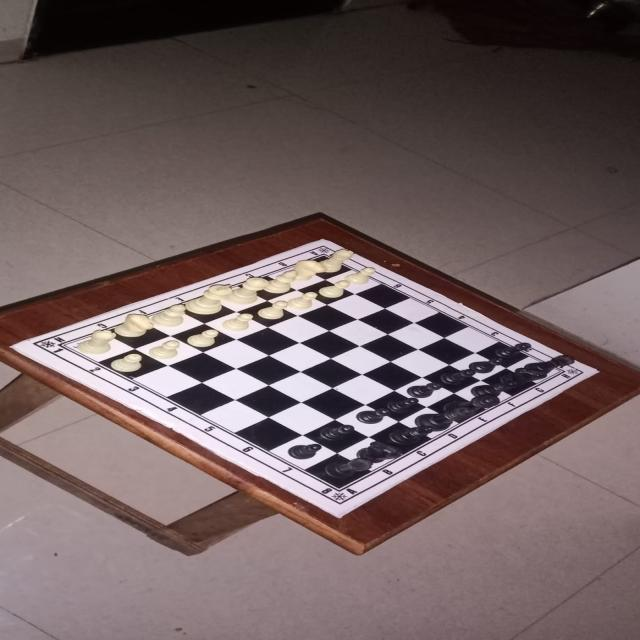corners: (307, 234, 334, 244), (590, 364, 609, 378), (4, 343, 24, 352), (330, 512, 350, 521)
